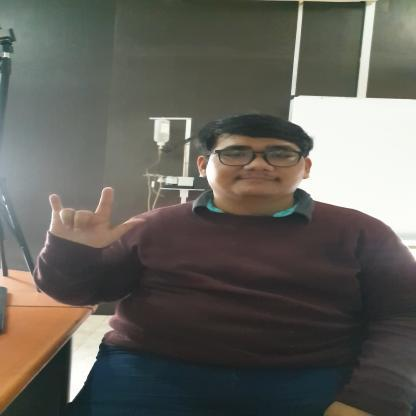ILoveYou: (39, 184, 143, 252)
